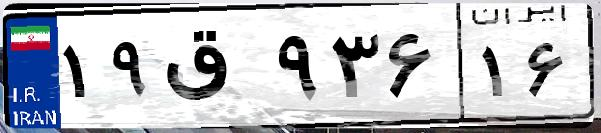1: (57, 26, 110, 100), (475, 38, 525, 113)
3: (330, 28, 385, 110)
6: (385, 28, 445, 110), (525, 38, 570, 115)
9: (270, 28, 330, 110), (110, 28, 158, 98)
ق: (158, 20, 270, 120)
